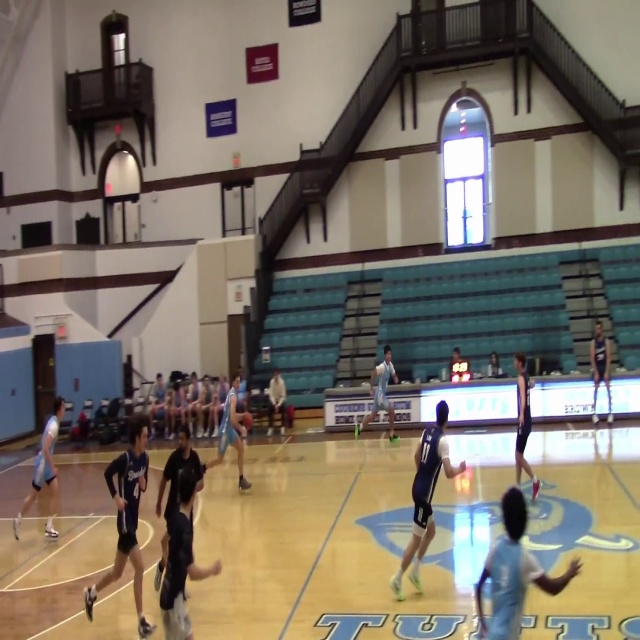Basketball: (239, 412, 253, 430)
